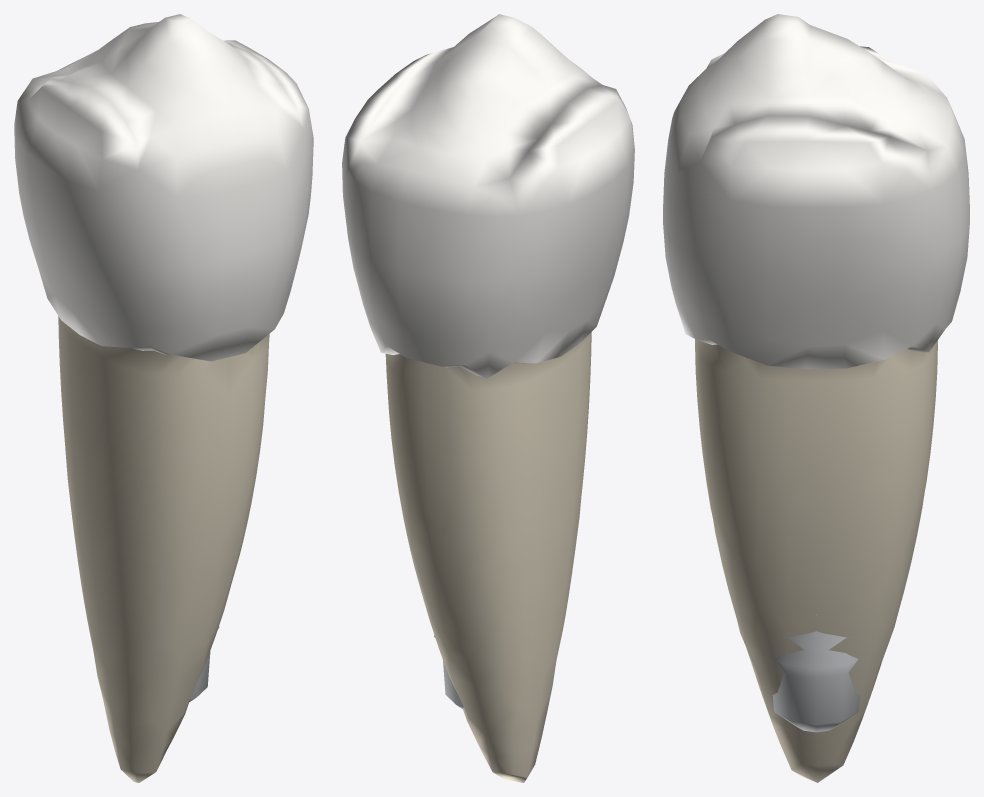
3 views of the same model, side by side, from view 1: azimuth 30°, elevation 25°; view 2: azimuth 150°, elevation 25°; view 3: azimuth 270°, elevation 25° (orthographic). The views are drawn at different scales.
Parts seen in each view (by area): view 1: crown, root; view 2: crown, root; view 3: crown, root, implant.
Part boxes in pixels (x1,y1,x2,y2): crown: (14,14,313,361); root: (58,316,269,782); crown: (342,14,634,378); root: (385,332,591,782); crown: (663,14,969,369); root: (695,339,937,782); implant: (772,614,860,732).
Bounding box in the file's own units: 7.67 × 22.78 × 8.17.
